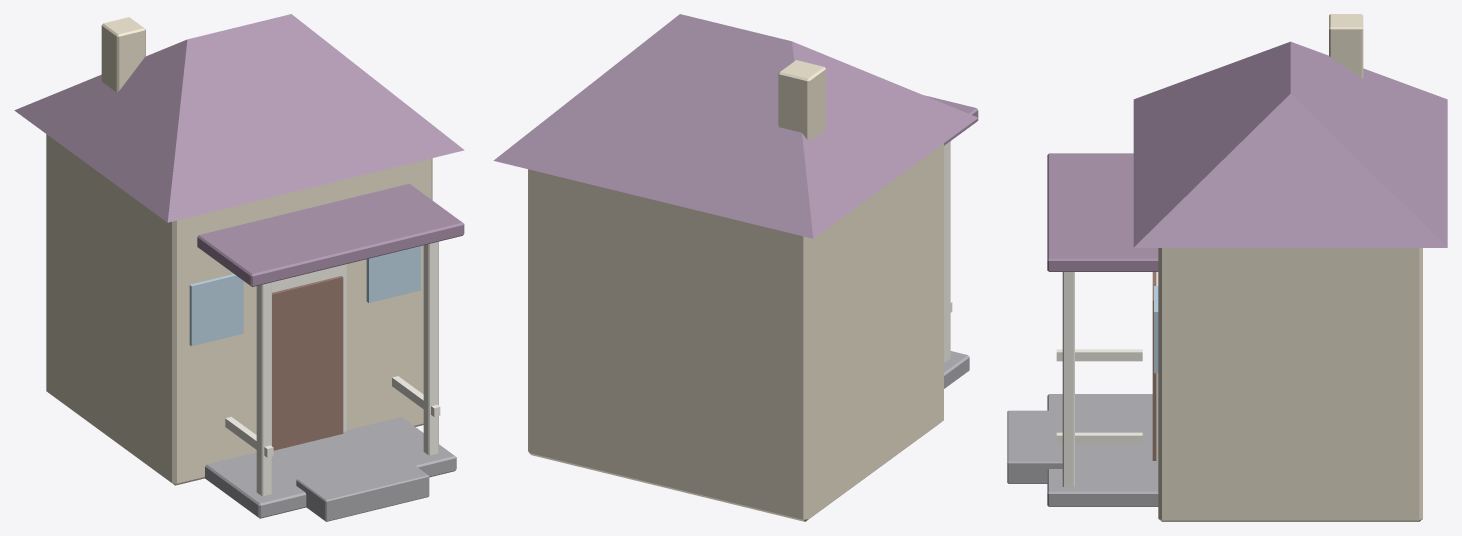
Rendered from house_c.glb.
3 views of the same model, side by side, from view 1: azimuth 30°, elevation 25°; view 2: azimuth 150°, elevation 25°; view 3: azimuth 270°, elevation 25° (orthographic). The views are drawn at different scales.
Parts seen in each view (by area): view 1: house_c; view 2: house_c; view 3: house_c.
Boxes of the visible parts, x1,y1,x2,y2 form: house_c: (14, 14, 464, 521); house_c: (493, 14, 978, 521); house_c: (1007, 14, 1447, 521).
Size of the model in its own units: 2.85 by 3.53 by 3.57.
